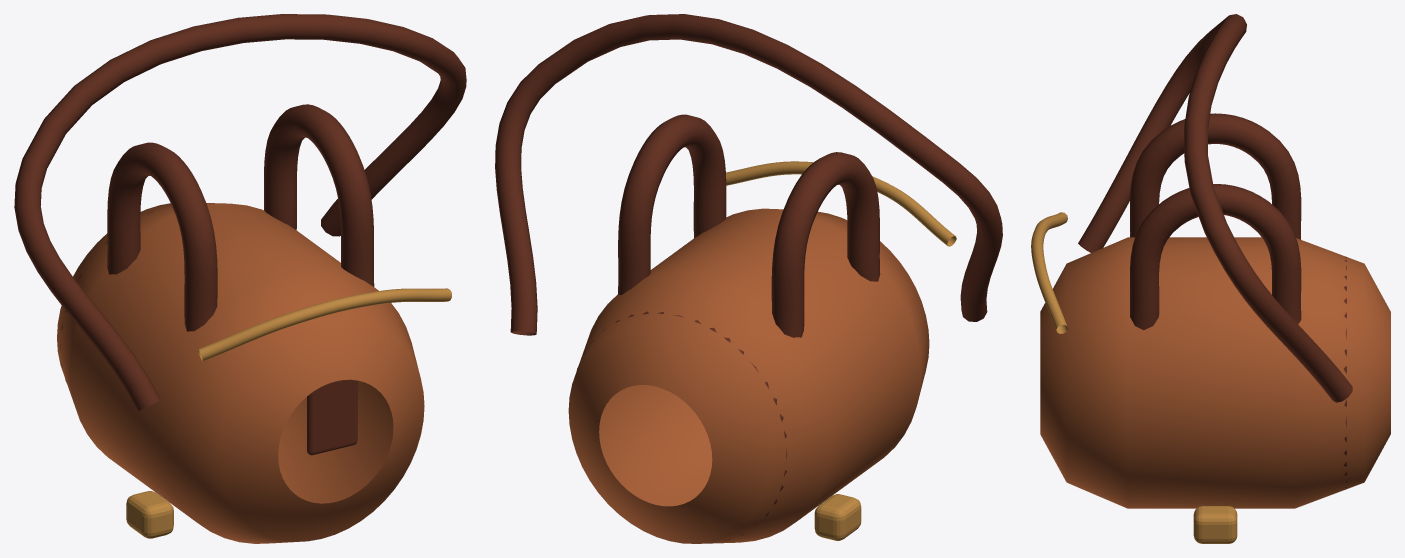
The model's file is luggage-duffel.glb.
3 views of the same model, side by side, from view 1: azimuth 30°, elevation 25°; view 2: azimuth 150°, elevation 25°; view 3: azimuth 270°, elevation 25° (orthographic). The views are drawn at different scales.
Visible parts, largest first — view 1: luggage-cognac-duffel Static Batch; view 2: luggage-cognac-duffel Static Batch; view 3: luggage-cognac-duffel Static Batch.
Boxes of the visible parts, x1,y1,x2,y2 form: luggage-cognac-duffel Static Batch: (14,14,466,543); luggage-cognac-duffel Static Batch: (495,14,1002,543); luggage-cognac-duffel Static Batch: (1031,14,1390,543).
Size of the model in its own units: 1.15 by 1.14 by 0.8209.
